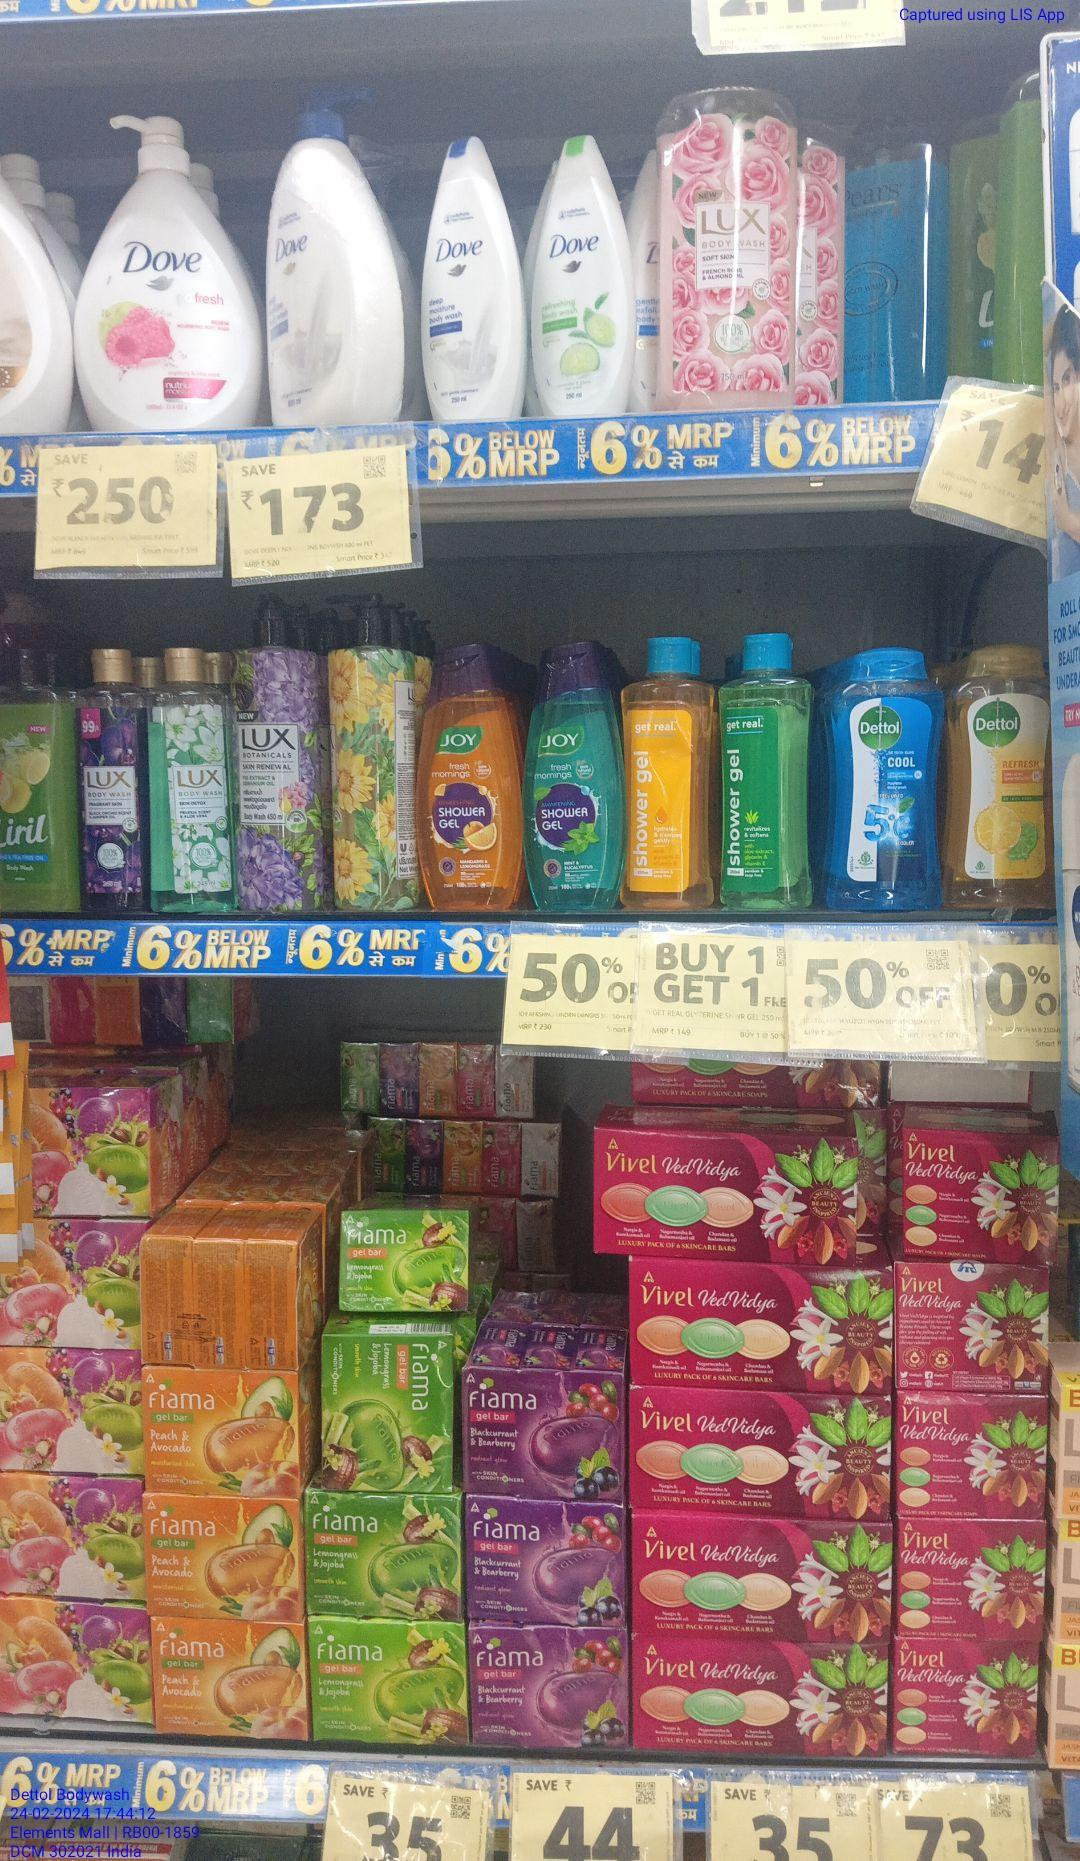Dettol_Bodywash_Cool: (841, 646, 942, 913)
Dettol_Bodywash_Refresh: (957, 646, 1057, 909)
Dove_Deep_Moisture_Body_Wash_250ML: (420, 131, 522, 424)
Dove_Refreshing_Body_Wash_250ML: (531, 138, 631, 413)
Joy_Shower_Gel_Mandarin_and_Lemongrass_250ML: (418, 646, 527, 918)
Joy_Shower_Gel_Mint_and_Eucalyptus_250ML: (530, 640, 624, 910)
Liril_Lime_and_Tea_Tree_Oil_Body_Wash_250ML: (5, 644, 77, 911)
Lux_Black_Orchid_Scent_and_Juniper_Oil_Body_Wash_245ML: (81, 650, 145, 915)
Lux_Body_Wash_Skin_Detox_Freesia_Scent_and_Alove_Vera_245ML: (158, 643, 239, 915)
